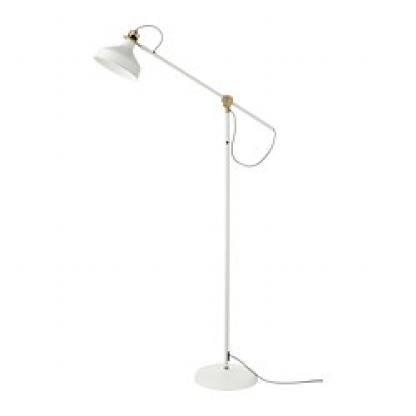Lamp: (85, 30, 276, 396)
